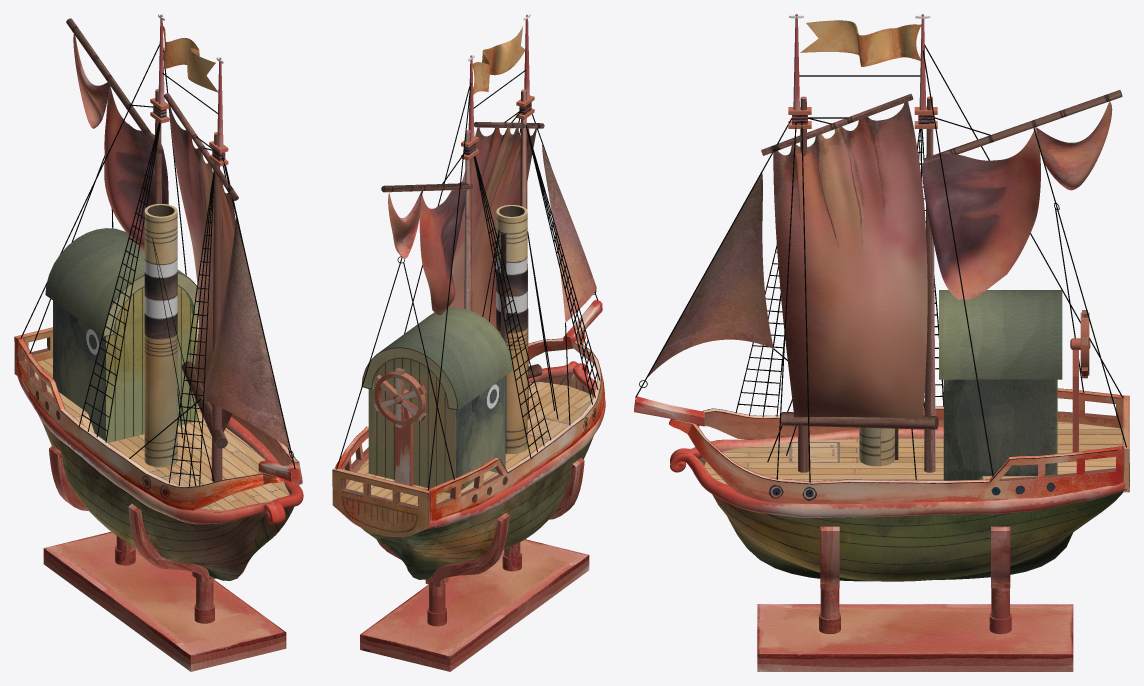
The picture shows the model from 3 angles, left to right: view 1: azimuth 30°, elevation 25°; view 2: azimuth 150°, elevation 25°; view 3: azimuth 270°, elevation 25°; orthographic projection. The views are drawn at different scales.
Parts seen in each view (by area): view 1: object 9, object 5, object 7, object 13, object 28, object 8, object 11, object 12, object 15, object 10, object 6, Plane.001 (+5 smaller); view 2: object 9, object 5, object 8, object 7, object 12, object 13, object 11, object 15, object 10, Cube.006, object 28, object 6 (+5 smaller); view 3: object 12, object 5, object 9, object 7, object 8, object 15, object 11, object 28, object 10, object 6, object 16, Cube.006 (+3 smaller).
Part boxes in pixels (<box>): object 9: <box>45,228,198,442</box>; object 5: <box>43,445,286,671</box>; object 7: <box>39,417,293,580</box>; object 13: <box>144,204,177,467</box>; object 28: <box>201,219,289,448</box>; object 8: <box>14,327,302,510</box>; object 11: <box>66,14,300,482</box>; object 12: <box>169,104,235,431</box>; object 15: <box>73,34,168,251</box>; object 10: <box>35,358,289,510</box>; object 6: <box>16,370,303,524</box>; Plane.001: <box>78,122,160,442</box>; object 9: <box>361,307,512,493</box>; object 5: <box>360,458,589,671</box>; object 8: <box>332,332,604,536</box>; object 7: <box>361,373,593,579</box>; object 12: <box>434,127,536,328</box>; object 13: <box>496,205,527,453</box>; object 11: <box>381,14,602,419</box>; object 15: <box>388,181,465,315</box>; object 10: <box>345,381,592,505</box>; Cube.006: <box>373,368,426,486</box>; object 28: <box>542,144,596,322</box>; object 6: <box>427,361,605,528</box>; object 12: <box>773,102,927,418</box>; object 5: <box>757,526,1073,671</box>; object 9: <box>939,290,1062,480</box>; object 7: <box>699,440,1123,581</box>; object 8: <box>669,388,1129,504</box>; object 15: <box>921,101,1112,299</box>; object 11: <box>634,14,1122,472</box>; object 28: <box>648,173,773,376</box>; object 10: <box>704,422,1122,484</box>; object 6: <box>670,427,1126,517</box>; object 16: <box>800,20,921,66</box>; Cube.006: <box>1070,310,1090,452</box>.
Bounding box in the file's own units: 3.11 × 11.78 × 8.37.
14 materials, 13 textured.
